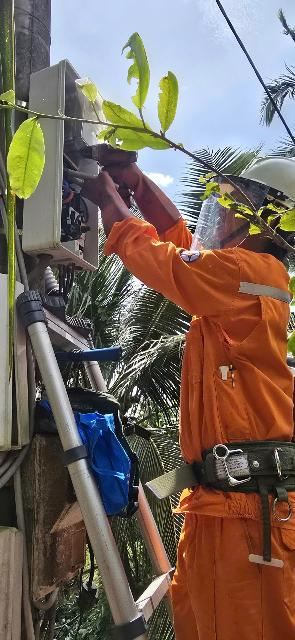gloves: (85, 133, 193, 230), (77, 137, 132, 244)
harness: (170, 415, 295, 520)
helmet: (205, 120, 295, 240)
